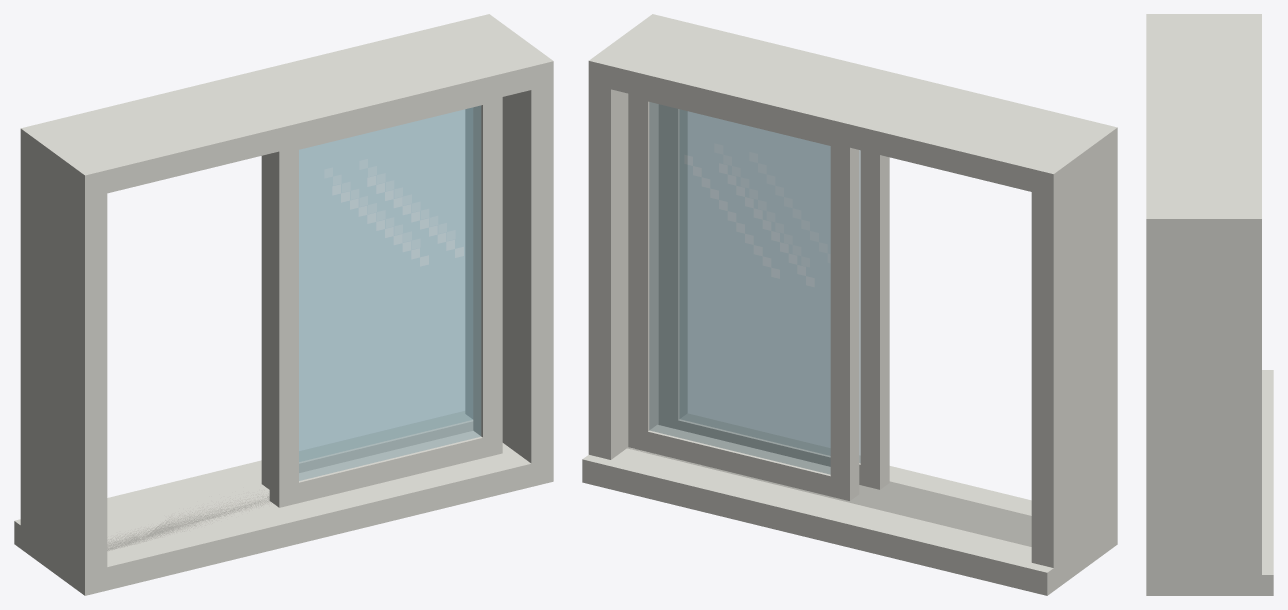
File: t_window_no_curtains_open.glb
The picture shows the model from 3 angles, left to right: view 1: azimuth 30°, elevation 25°; view 2: azimuth 150°, elevation 25°; view 3: azimuth 270°, elevation 25°; orthographic projection. The views are drawn at different scales.
Visible parts, largest first — view 1: block_slider-glass, block_fixed-glass, block_lintel, block_stile-1, block_sill, block_stile1, block_slider-l, block_slider-r, block_slider-bottom, block_fixed-bottom, block_fixed-l, block_fixed-r (+2 smaller); view 2: block_fixed-glass, block_slider-glass, block_lintel, block_stile-1, block_sill, block_stile1, block_fixed-l, block_fixed-r, block_slider-l, block_slider-r, block_fixed-bottom, block_track (+2 smaller); view 3: block_stile1, block_lintel, block_sill, block_stile-1.
Part boxes in pixels (box(x1,y1,x2,y2)): block_slider-glass: box(299, 105, 481, 480); block_fixed-glass: box(299, 108, 472, 461); block_lintel: box(20, 14, 553, 198); block_stile-1: box(20, 123, 107, 595); block_sill: box(14, 411, 553, 595); block_stile1: box(471, 14, 553, 486); block_slider-l: box(269, 150, 298, 507); block_slider-r: box(473, 97, 502, 456); block_slider-bottom: box(269, 431, 502, 507); block_fixed-bottom: box(261, 414, 473, 489); block_fixed-l: box(261, 154, 269, 489); block_fixed-r: box(465, 108, 472, 418); block_fixed-glass: box(649, 102, 830, 474); block_slider-glass: box(680, 110, 860, 462); block_lintel: box(588, 14, 1117, 197); block_stile-1: box(1031, 122, 1117, 590); block_sill: box(582, 448, 1117, 595); block_stile1: box(588, 15, 673, 459); block_fixed-l: box(830, 143, 859, 500); block_fixed-r: box(628, 94, 657, 448); block_slider-l: box(860, 150, 889, 489); block_slider-r: box(658, 104, 687, 428); block_fixed-bottom: box(628, 425, 859, 500); block_track: box(627, 447, 1031, 546); block_stile1: box(1146, 209, 1261, 595); block_lintel: box(1146, 14, 1261, 239); block_sill: box(1146, 370, 1273, 595); block_stile-1: box(1146, 14, 1261, 23).
Size of the model in its own units: 0.84 by 0.72 by 0.22.
2 materials, 2 textured.
